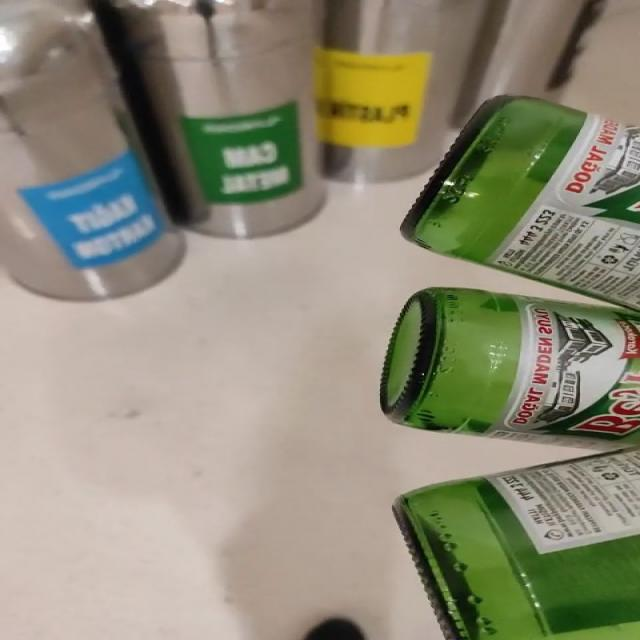glass: (380, 288, 640, 640), (403, 96, 640, 307)
